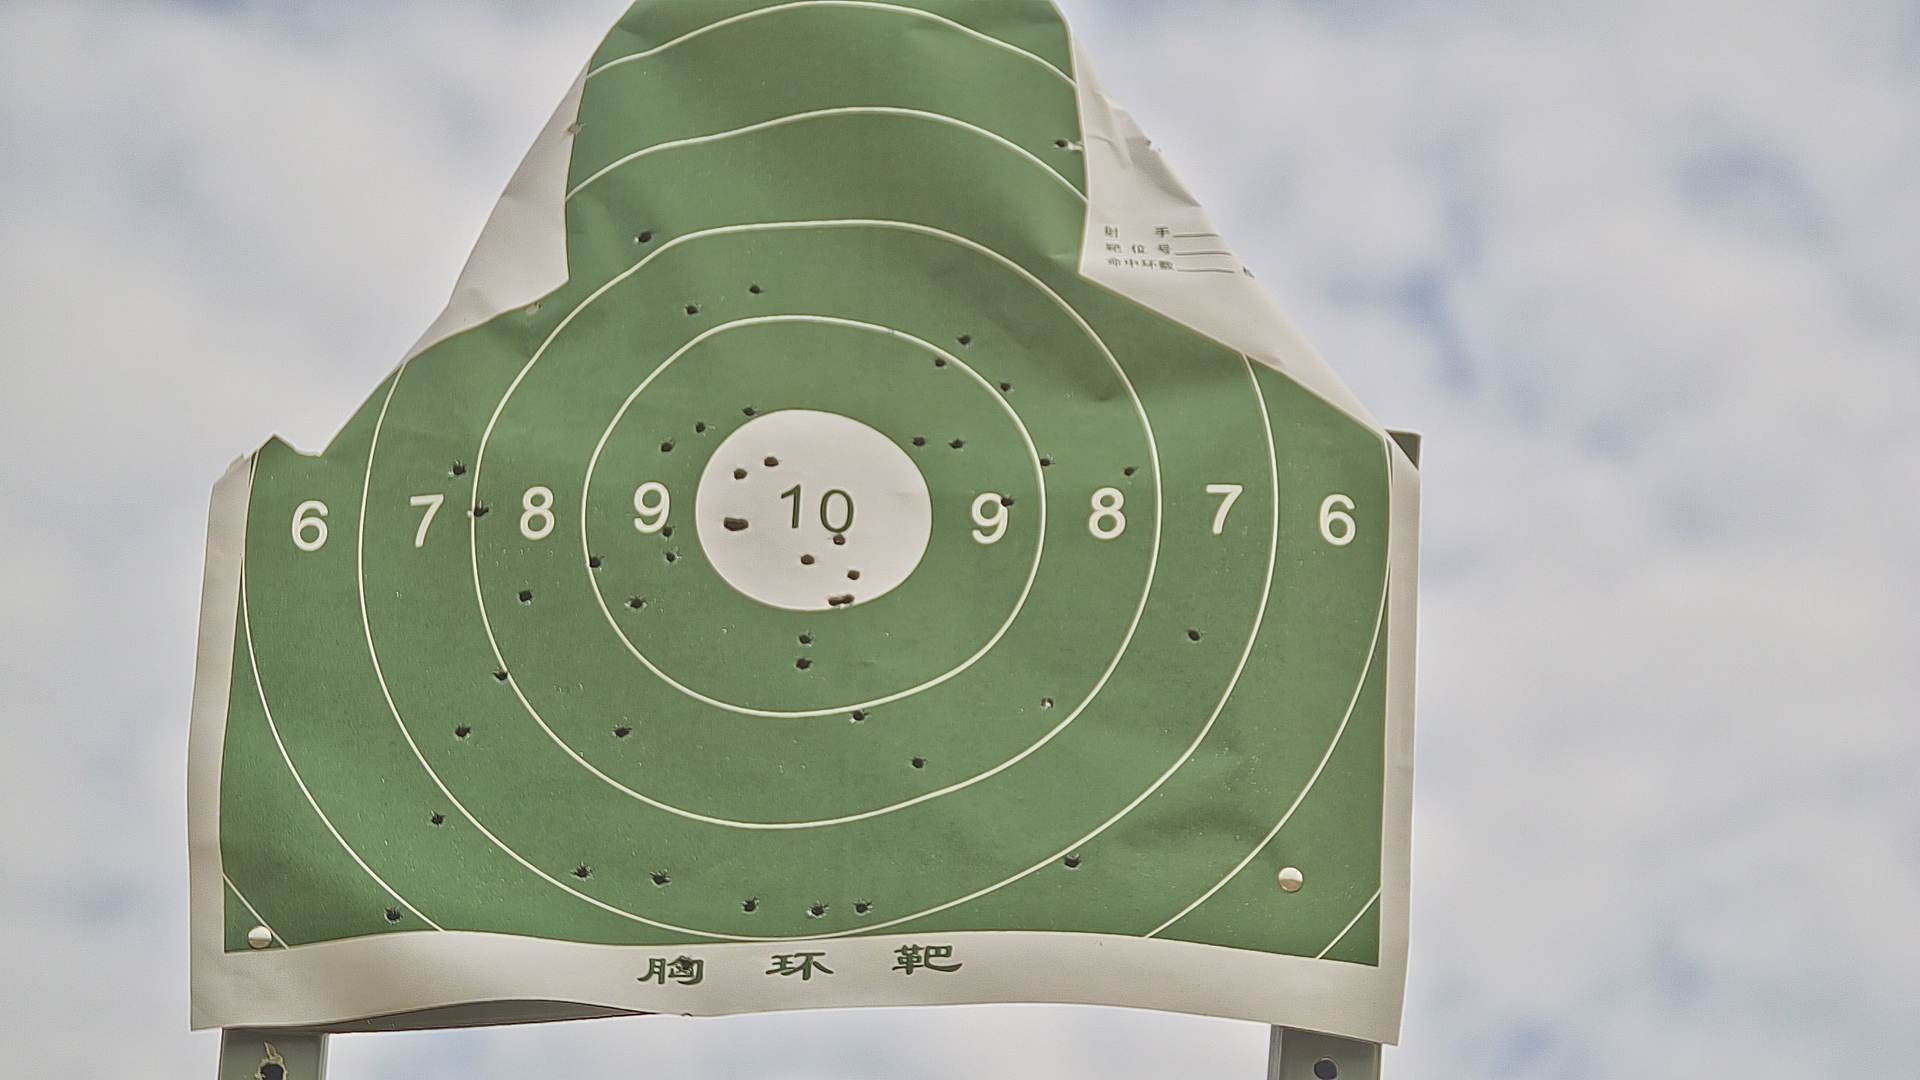hole: (626, 595, 646, 613), (469, 502, 491, 520), (651, 870, 669, 889), (448, 462, 468, 477), (430, 810, 446, 829), (564, 121, 585, 136), (682, 302, 702, 316), (516, 589, 535, 604), (612, 725, 632, 740), (794, 657, 814, 671), (524, 301, 541, 316), (454, 723, 469, 740), (574, 862, 589, 880), (1185, 626, 1201, 644), (1064, 856, 1081, 872), (382, 909, 402, 922), (633, 231, 654, 243), (659, 439, 676, 454), (853, 899, 870, 914), (735, 514, 749, 531), (1052, 138, 1071, 152), (807, 903, 825, 916), (665, 549, 679, 564), (731, 465, 748, 479), (764, 455, 781, 468), (910, 435, 927, 448), (840, 593, 853, 611), (1120, 465, 1138, 477), (679, 957, 694, 972), (742, 898, 757, 913), (934, 355, 948, 369), (1040, 696, 1055, 711), (1000, 495, 1015, 508), (909, 756, 924, 769), (796, 634, 814, 646), (588, 554, 601, 568), (694, 419, 707, 434), (848, 568, 862, 582), (852, 708, 865, 723), (495, 669, 510, 680), (723, 514, 735, 530), (799, 553, 815, 564), (949, 436, 963, 450), (749, 284, 764, 295), (662, 524, 674, 538), (828, 593, 840, 608), (742, 404, 756, 415), (1000, 382, 1013, 394), (833, 534, 845, 546), (957, 336, 972, 345), (1040, 455, 1052, 465)
kernel: (807, 506, 808, 513)
target: (218, 1, 1386, 976)
ten: (694, 409, 932, 613)
